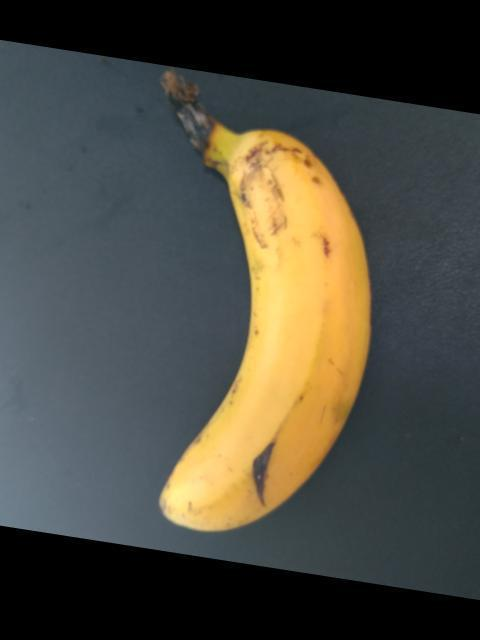ripe: (147, 99, 388, 577)
